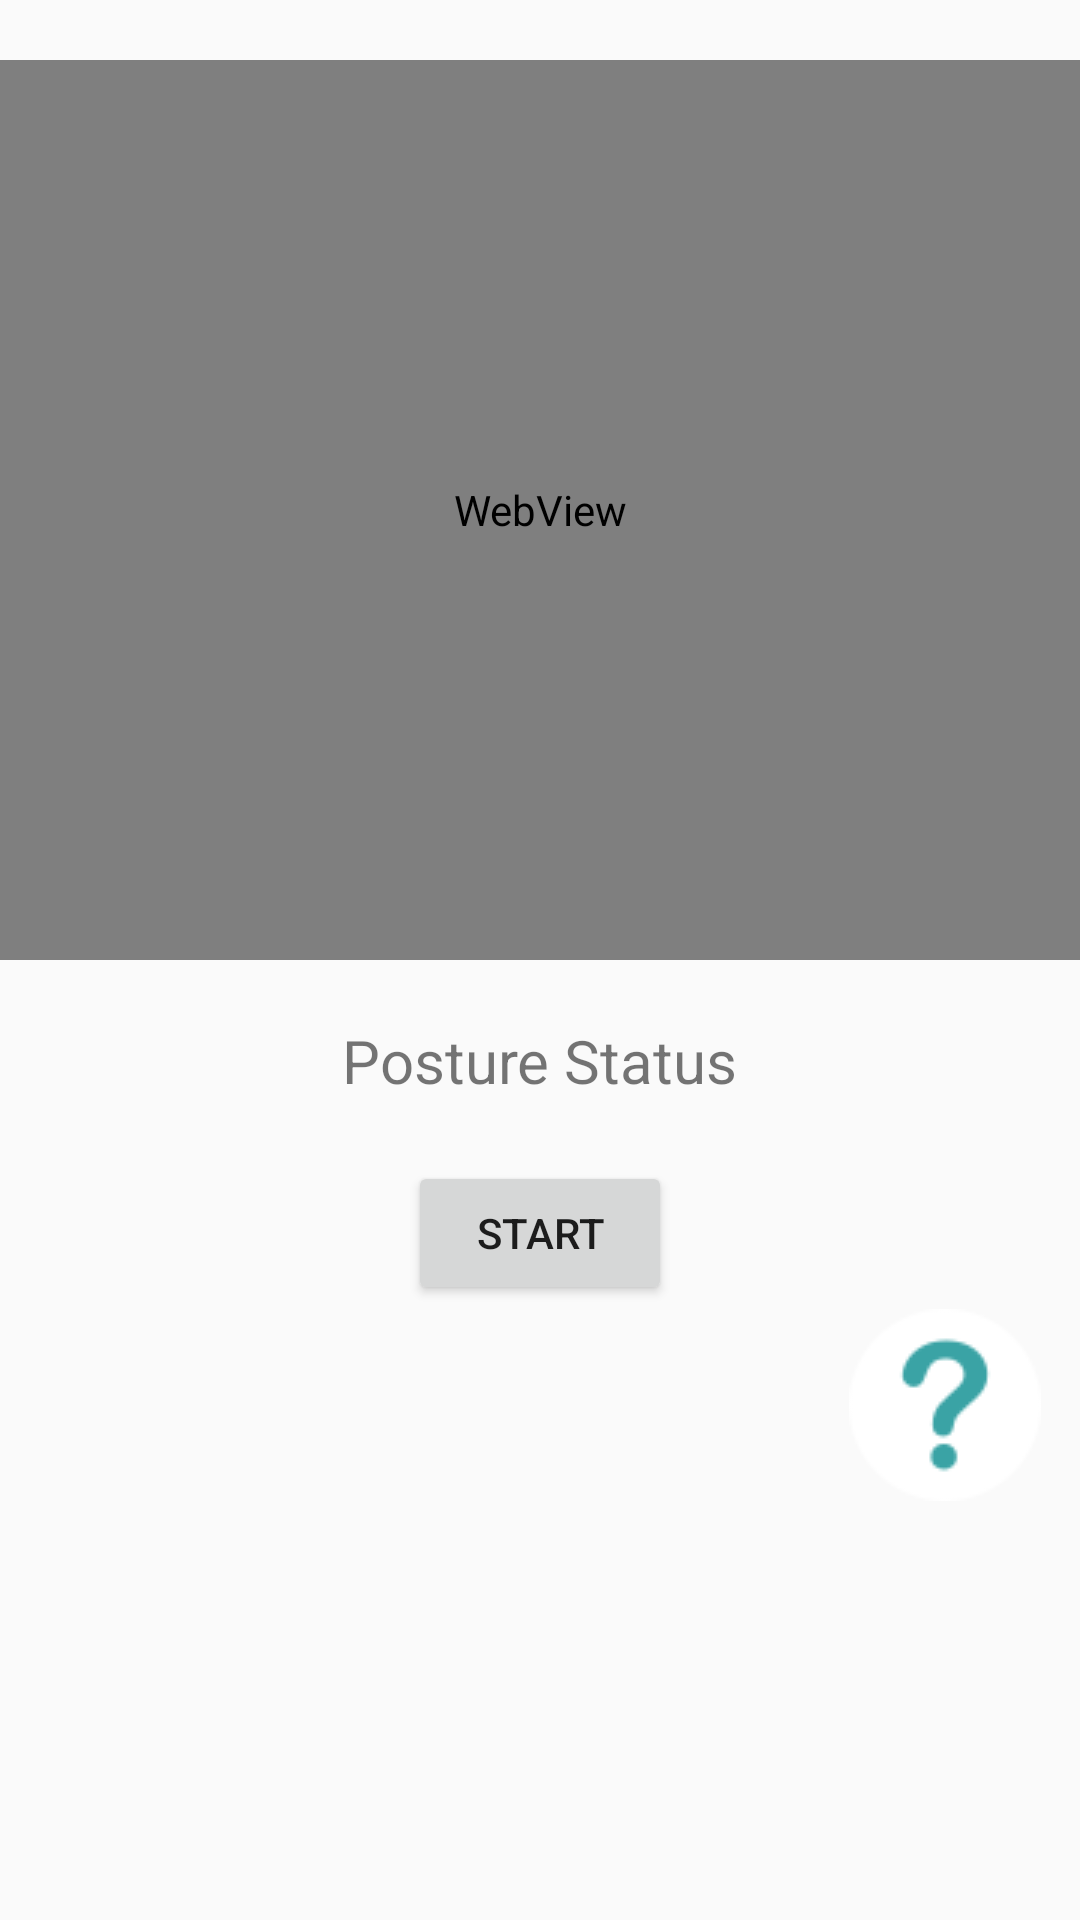

Screen size 1080*1920. Icon name, then its center in pixels as [x,y]:
help: [945,1404]
